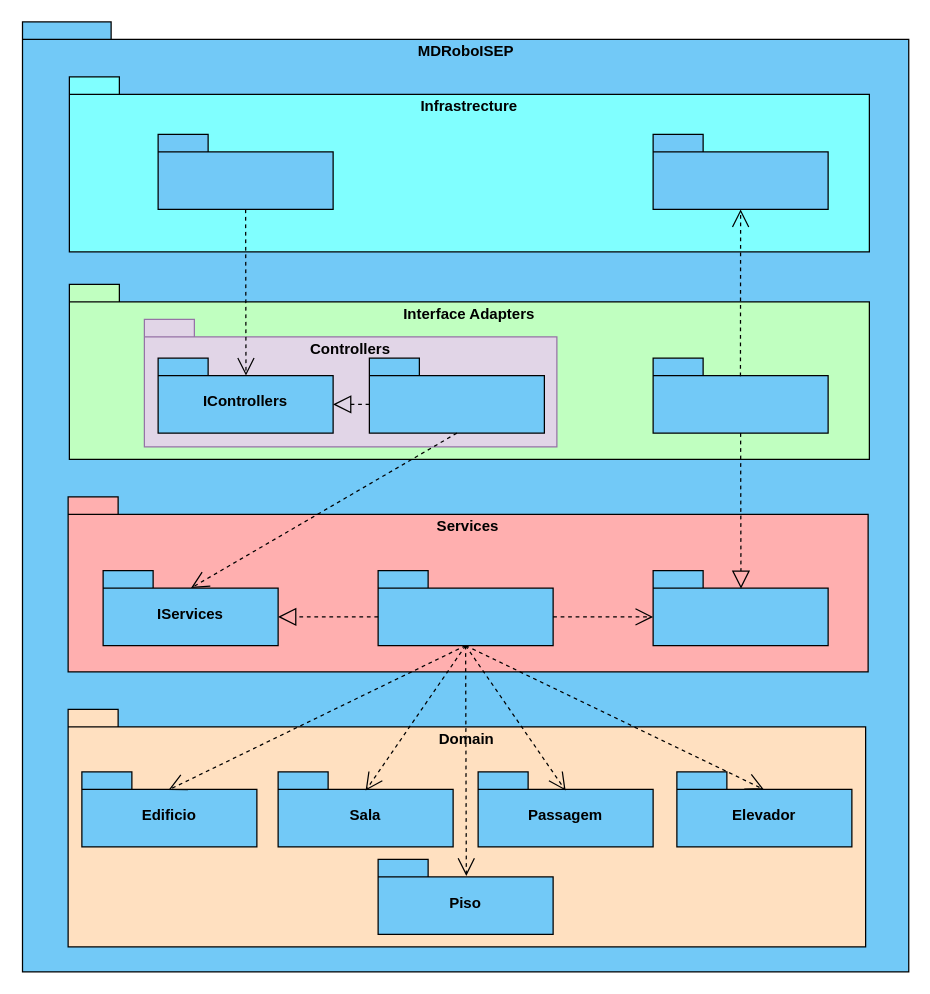
This 930x994 diagram has some shape labels left out. Each missing label, with the centre of its shape:
"ImplControllers" goes at point 456,395.
"ImplServices" goes at point 465,607.
"IRepos" goes at point 740,607.
"Persistence" goes at point 740,171.
"Repos" goes at point 740,395.
"Routes" goes at point 245,171.
